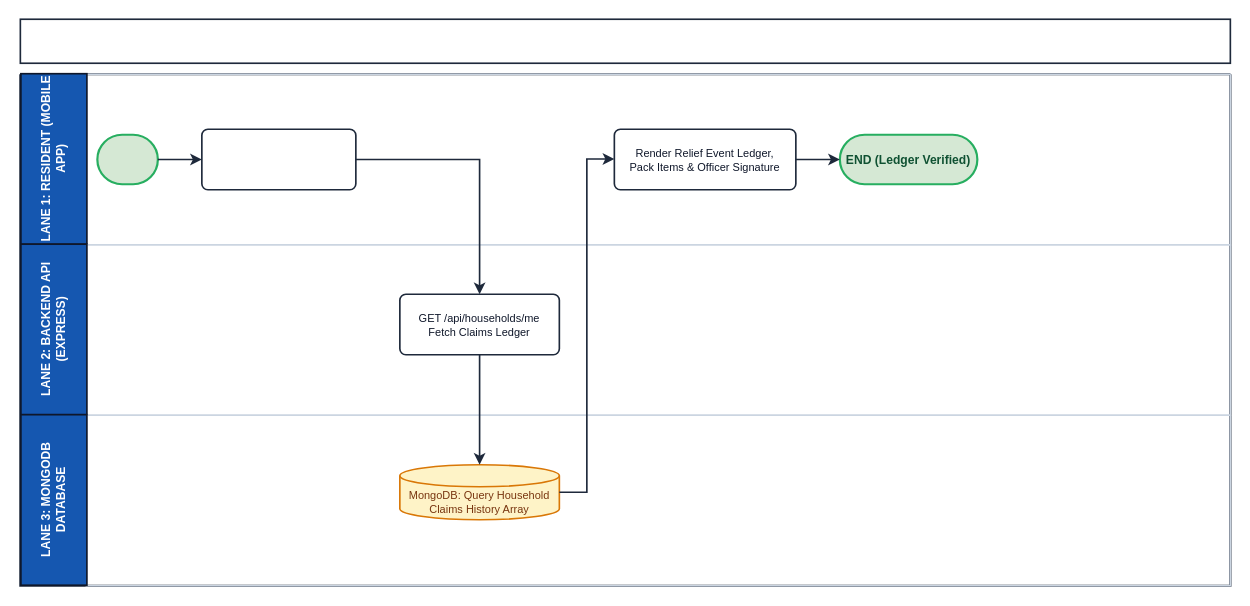
Some shapes in this 1250 by 606 pixel diagram are drawn without their labels. Here are the shapes that lost their labels. From the top down, the box of each, then its label:
(19, 18, 1231, 64): Process Flow [PF-R08]: View Claims History Module (Linked Use Case: UC-R08)
(96, 133, 158, 185): START
(201, 128, 356, 190): Tap Claims History Tab in Resident Menu
